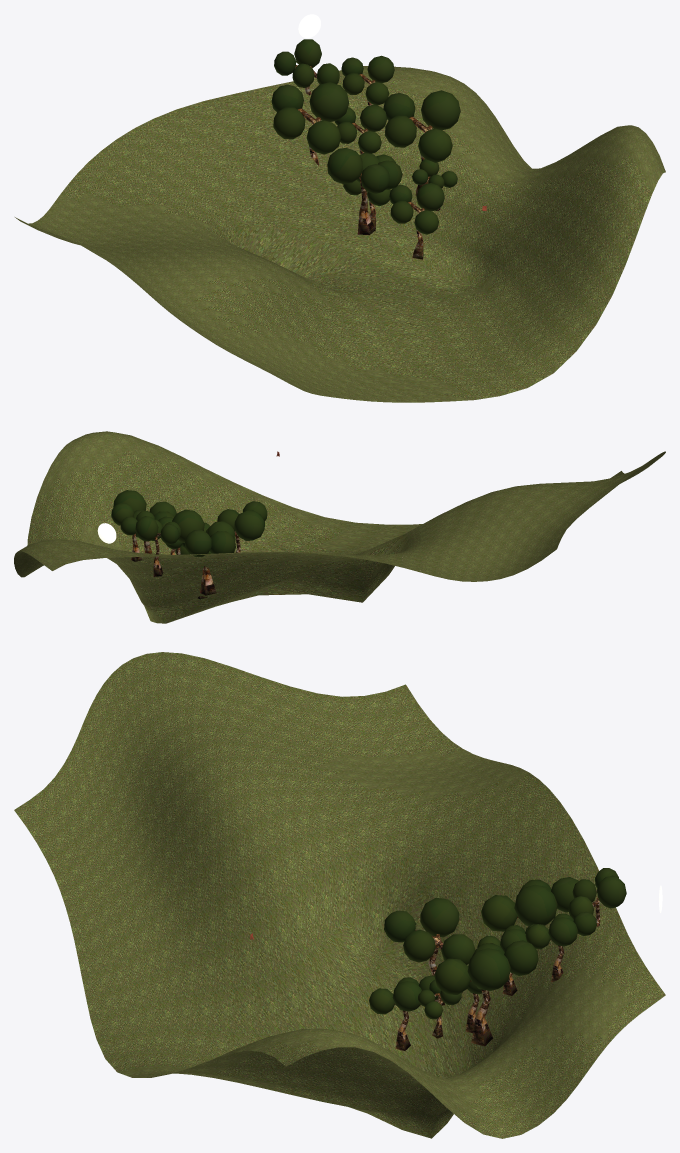
Rendered from 2ndHouseBackground.glb.
3 views of the same model, one above another, from view 1: azimuth 30°, elevation 25°; view 2: azimuth 150°, elevation 25°; view 3: azimuth 270°, elevation 25° (orthographic). The views are drawn at different scales.
Visible parts, largest first — view 1: OutsideSnow, leaves.007, leaves.006, leaves.002, leaves.005, leaves.010, leaves.008, leaves.009, leaves.003, leaves.004; view 2: OutsideSnow, leaves.007, leaves.002, leaves.010, leaves.006, leaves.008, stump.005, sun; view 3: OutsideSnow, leaves.002, leaves.006, leaves.007, leaves.010, leaves.008, leaves.005, leaves.003, stump.004.
Boxes of the visible parts, left/top/right/bottom form: OutsideSnow: left=15, top=66, right=665, bottom=402; leaves.007: left=271, top=82, right=348, bottom=154; leaves.006: left=383, top=90, right=460, bottom=162; leaves.002: left=327, top=148, right=402, bottom=193; leaves.005: left=389, top=183, right=444, bottom=234; leaves.010: left=274, top=39, right=339, bottom=87; leaves.008: left=341, top=55, right=394, bottom=105; leaves.009: left=334, top=104, right=386, bottom=153; leaves.003: left=412, top=159, right=457, bottom=188; leaves.004: left=343, top=154, right=395, bottom=206; OutsideSnow: left=14, top=431, right=665, bottom=623; leaves.007: left=172, top=509, right=235, bottom=556; leaves.002: left=206, top=501, right=267, bottom=540; leaves.010: left=135, top=516, right=180, bottom=544; leaves.006: left=113, top=490, right=176, bottom=537; leaves.008: left=111, top=503, right=154, bottom=535; stump.005: left=200, top=566, right=216, bottom=595; sun: left=97, top=523, right=116, bottom=543; OutsideSnow: left=14, top=652, right=665, bottom=1138; leaves.002: left=384, top=897, right=475, bottom=964; leaves.006: left=434, top=940, right=538, bottom=994; leaves.007: left=481, top=877, right=578, bottom=931; leaves.010: left=568, top=868, right=626, bottom=919; leaves.008: left=525, top=911, right=596, bottom=949; leaves.005: left=369, top=975, right=438, bottom=1014; leaves.003: left=418, top=979, right=461, bottom=1019; stump.004: left=470, top=980, right=492, bottom=1046.
Size of the model in its own units: 31.92 by 10.95 by 27.33.
4 materials, 3 textured.
